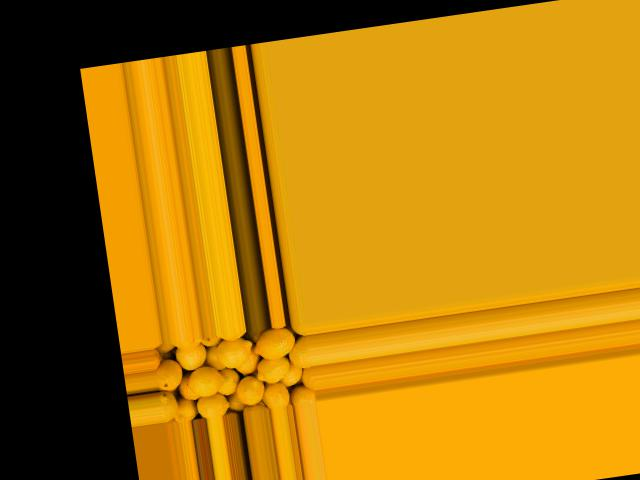lemon: (234, 371, 264, 407)
